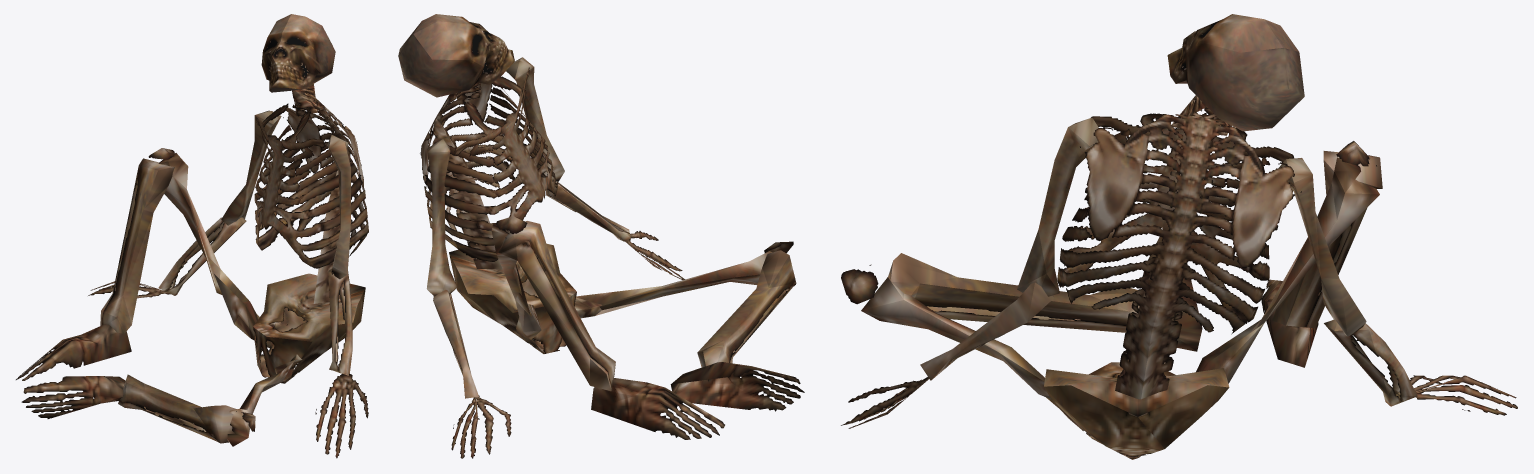
File: skelet.obj
The picture shows the model from 3 angles, left to right: view 1: azimuth 30°, elevation 25°; view 2: azimuth 150°, elevation 25°; view 3: azimuth 270°, elevation 25°; orthographic projection. The views are drawn at different scales.
Visible parts, largest first — view 1: Group; view 2: Group; view 3: Group.
Part boxes in pixels (<box>): Group: <box>16,14,368,458</box>; Group: <box>398,14,804,458</box>; Group: <box>841,14,1517,459</box>.
Size of the model in its own units: 36.16 by 32.51 by 42.13.
